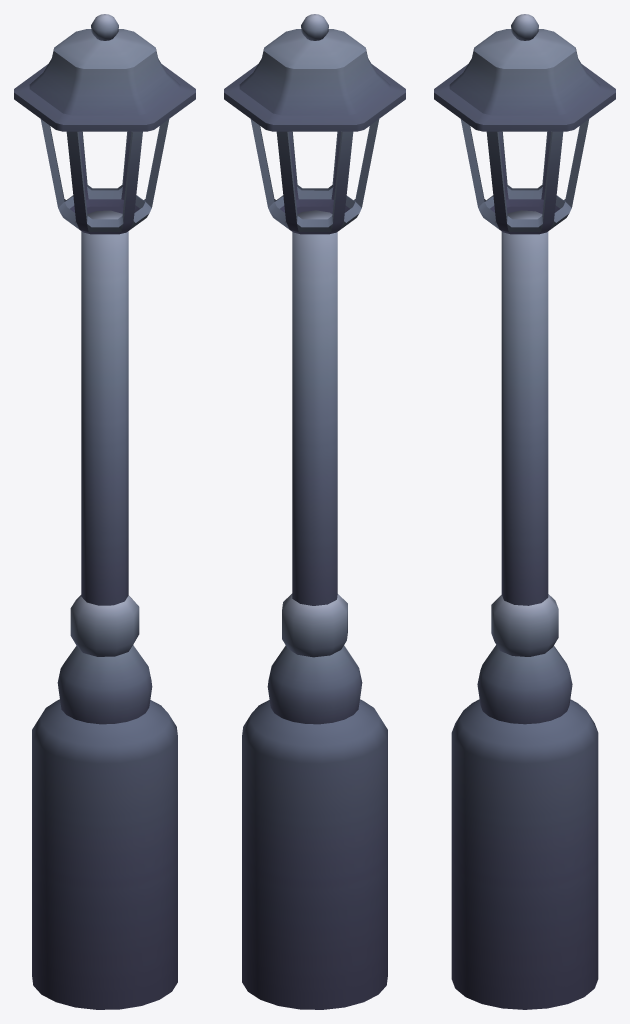
File: SM_Lamp.fbx
The picture shows the model from 3 angles, left to right: view 1: azimuth 30°, elevation 25°; view 2: azimuth 150°, elevation 25°; view 3: azimuth 270°, elevation 25°; orthographic projection.
Parts seen in each view (by area): view 1: SM_Lamp; view 2: SM_Lamp; view 3: SM_Lamp.
Boxes of the visible parts, x1=… form: SM_Lamp: x1=14, y1=14, x2=195, y2=1009; SM_Lamp: x1=224, y1=14, x2=405, y2=1009; SM_Lamp: x1=434, y1=14, x2=615, y2=1009.
Bounding box in the file's own units: 57.41 × 377 × 64.55.
